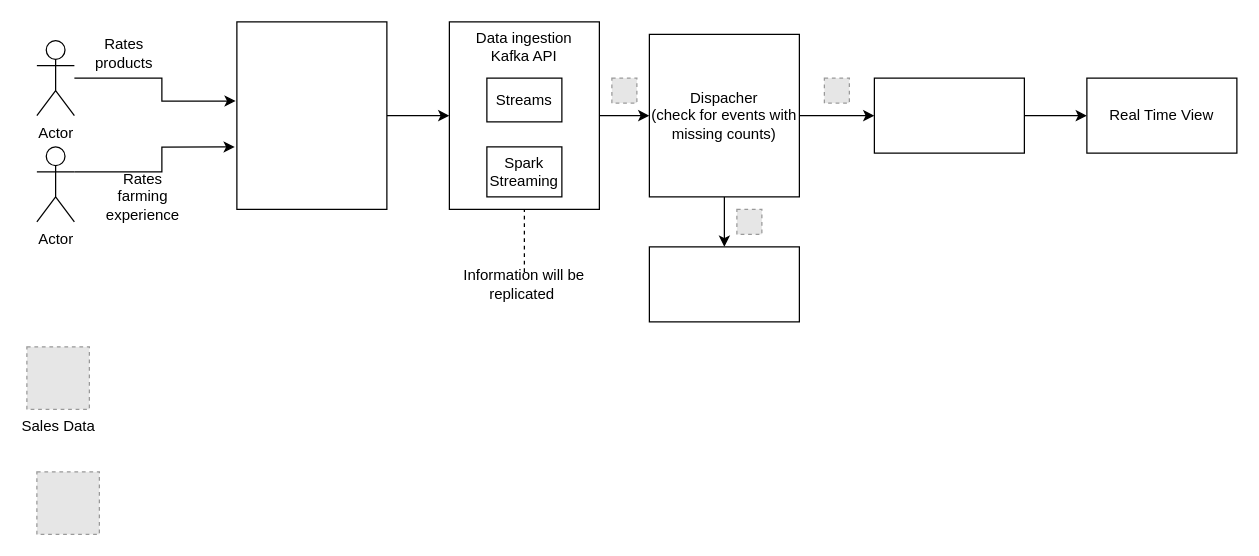
This 1259x556 diagram has some shape labels left out. Grey dashed boxes stand in for pictures. Here are the shapes that lost their labels. From the top down, the centre of each, then its label:
point (311, 115): Sprout Web Application (will act as stream source)
point (948, 115): Stream processing using sliding windows
point (723, 284): Data Lake (HDFS and mongoDB)
